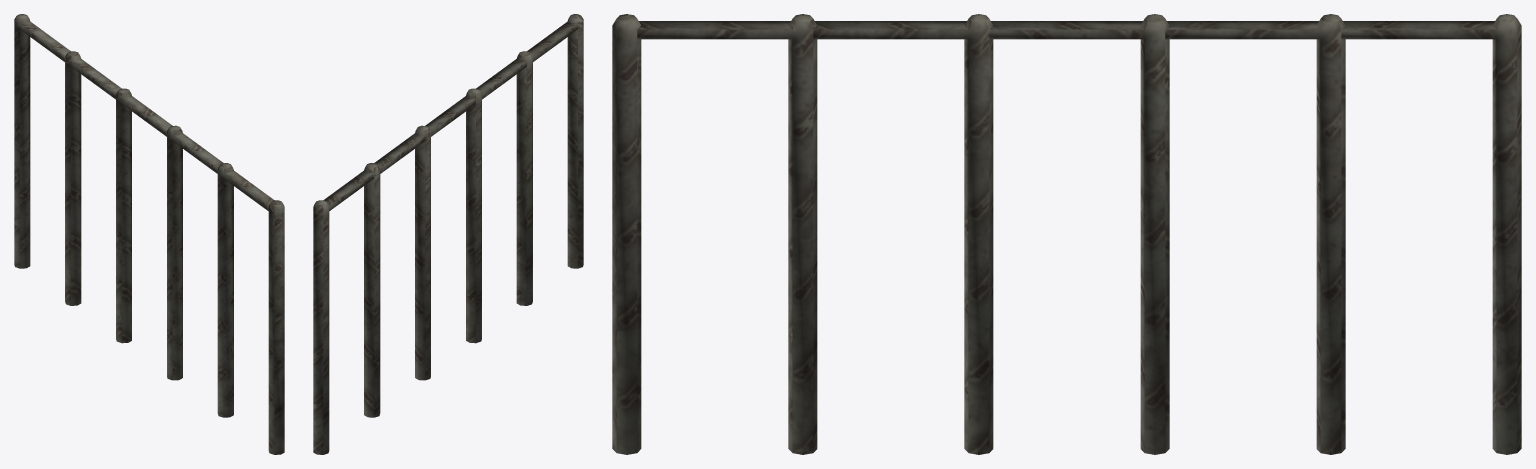
The model's file is reroute_railings.fbx.
The picture shows the model from 3 angles, left to right: view 1: azimuth 30°, elevation 25°; view 2: azimuth 150°, elevation 25°; view 3: azimuth 270°, elevation 25°; orthographic projection. The views are drawn at different scales.
Parts seen in each view (by area): view 1: Cylinder; view 2: Cylinder; view 3: Cylinder.
Part boxes in pixels (left/top/right/bottom): Cylinder: left=14, top=14, right=284, bottom=454; Cylinder: left=313, top=14, right=583, bottom=454; Cylinder: left=612, top=14, right=1521, bottom=454.
Size of the model in its own units: 43.13 by 709 by 1352.
1 material, 1 textured.
